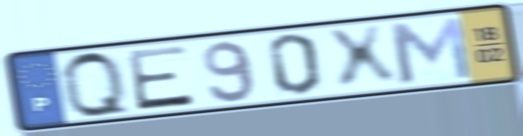0: (265, 30, 327, 98)
9: (200, 38, 259, 104)
E: (123, 42, 198, 113)
M: (384, 14, 476, 86)
Q: (57, 48, 137, 121)
X: (320, 22, 403, 93)
